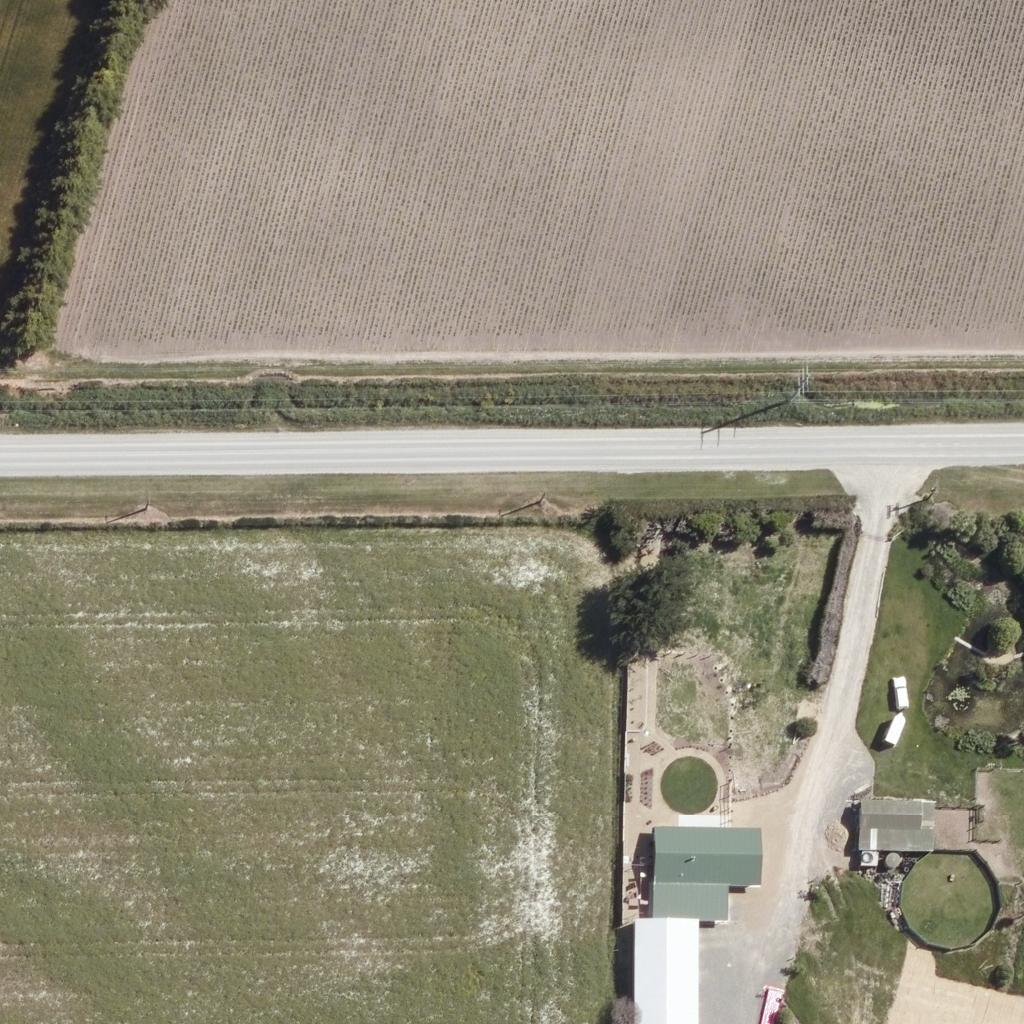car: (883, 675, 917, 709)
